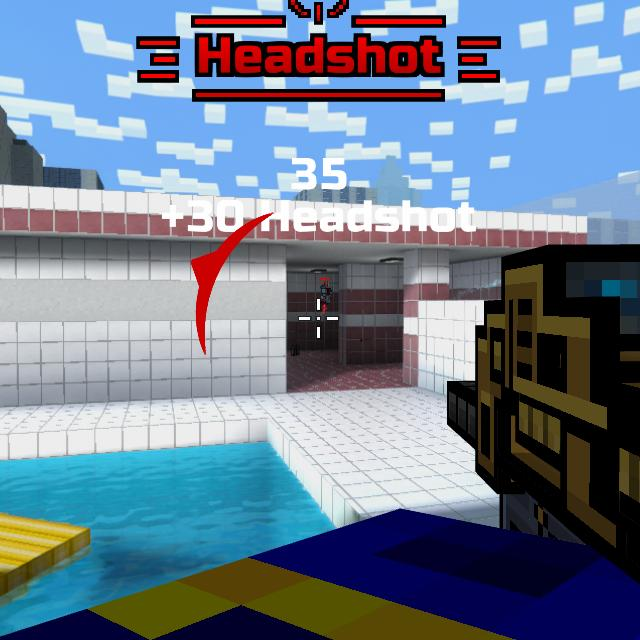Enemy: (321, 283, 329, 311)
